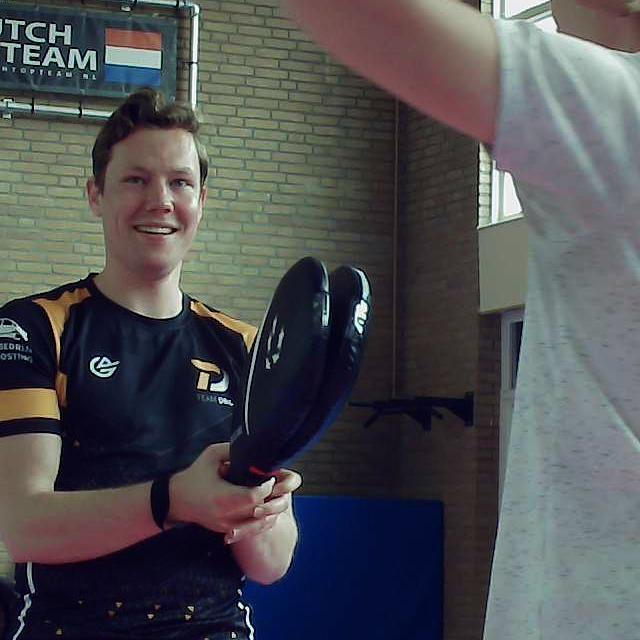paddle: (230, 258, 374, 490)
